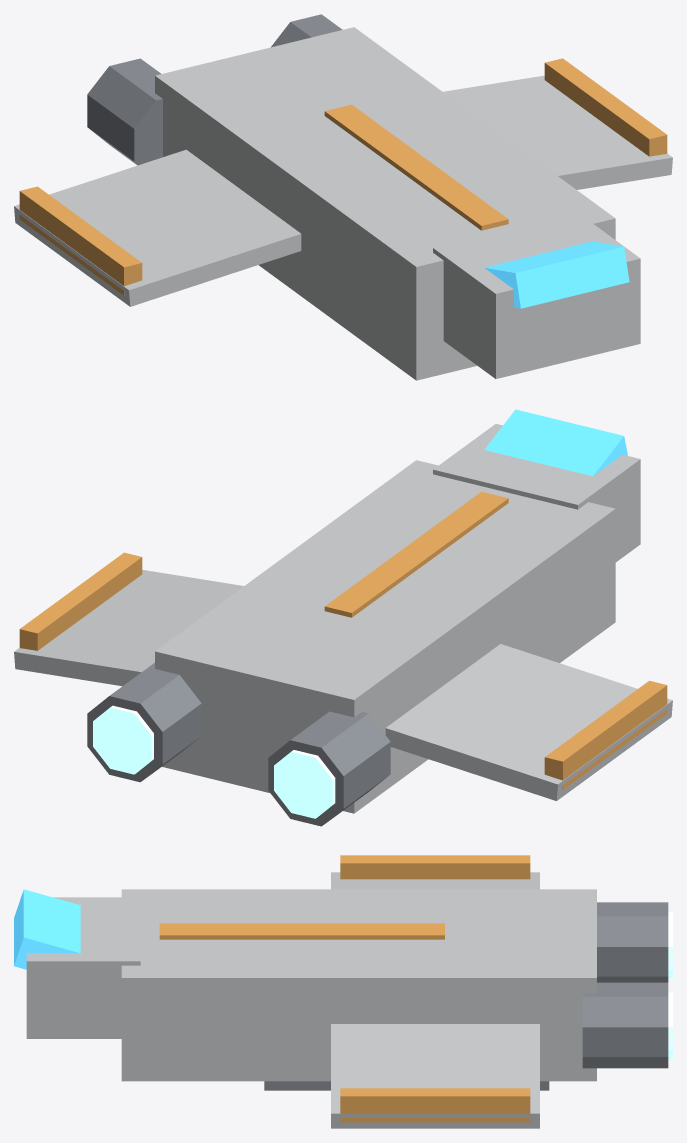
The model's file is ship-exterior.glb.
3 views of the same model, one above another, from view 1: azimuth 30°, elevation 25°; view 2: azimuth 150°, elevation 25°; view 3: azimuth 270°, elevation 25° (orthographic). The views are drawn at different scales.
Parts seen in each view (by area): view 1: hull; view 2: hull, engines; view 3: hull, engines.
Boxes of the visible parts, left/top/right/bottom form: hull: left=14, top=14, right=672, bottom=380; hull: left=14, top=409, right=672, bottom=826; engines: left=93, top=705, right=335, bottom=818; hull: left=14, top=855, right=668, bottom=1128; engines: left=668, top=912, right=672, bottom=1058.
Size of the model in its own units: 6.01 by 1.69 by 6.93.
